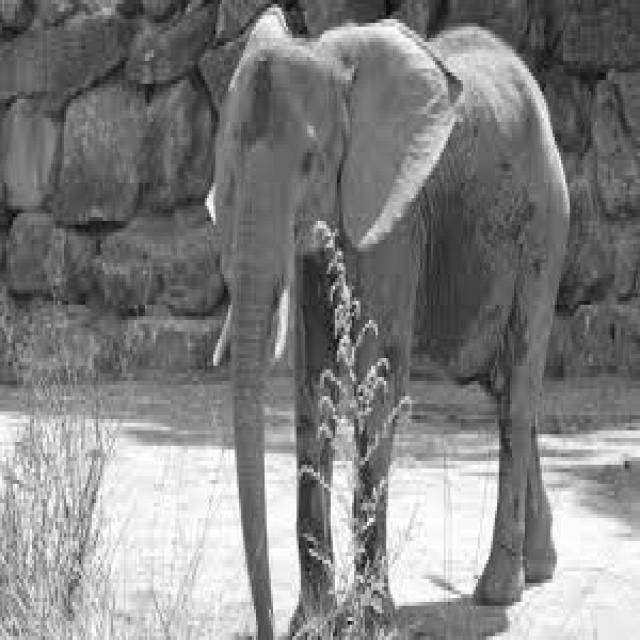Elephant: (209, 4, 570, 636)
